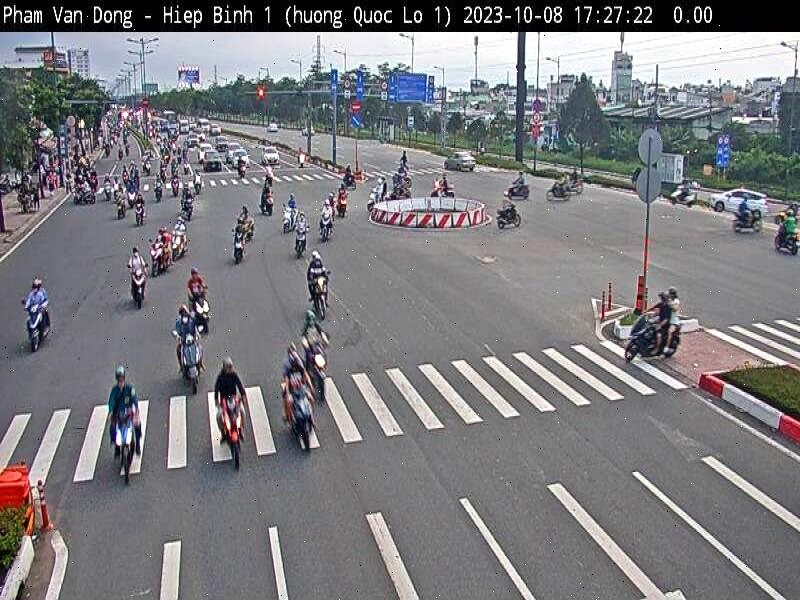car: (708, 183, 769, 225), (442, 146, 482, 176)
motorcycle: (626, 310, 682, 365), (105, 411, 148, 479), (283, 382, 318, 458), (218, 395, 248, 470), (173, 333, 207, 391), (305, 345, 331, 405), (303, 274, 335, 321), (24, 302, 53, 352), (190, 289, 215, 338), (491, 210, 528, 236), (127, 268, 149, 308), (292, 228, 314, 258), (318, 208, 336, 241), (152, 242, 169, 276), (232, 232, 247, 264)
